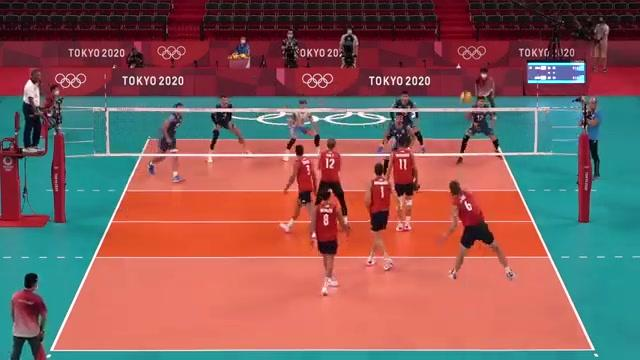ball: (458, 92, 474, 104)
